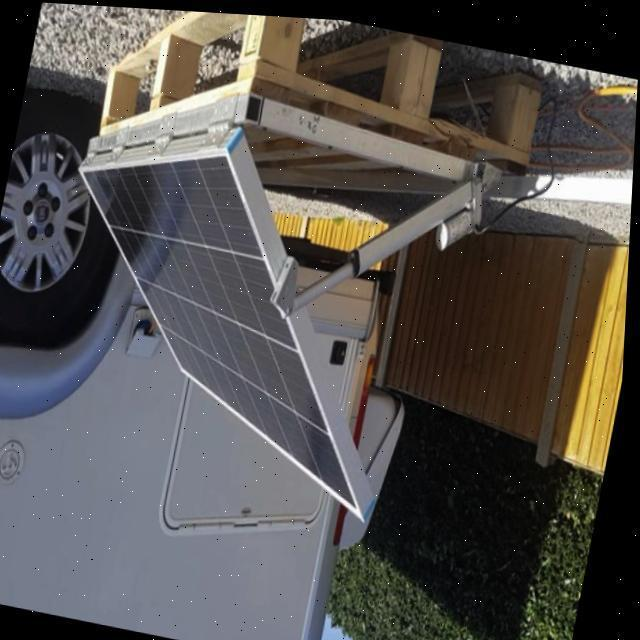Normal Solar Panel: (26, 112, 424, 512)
